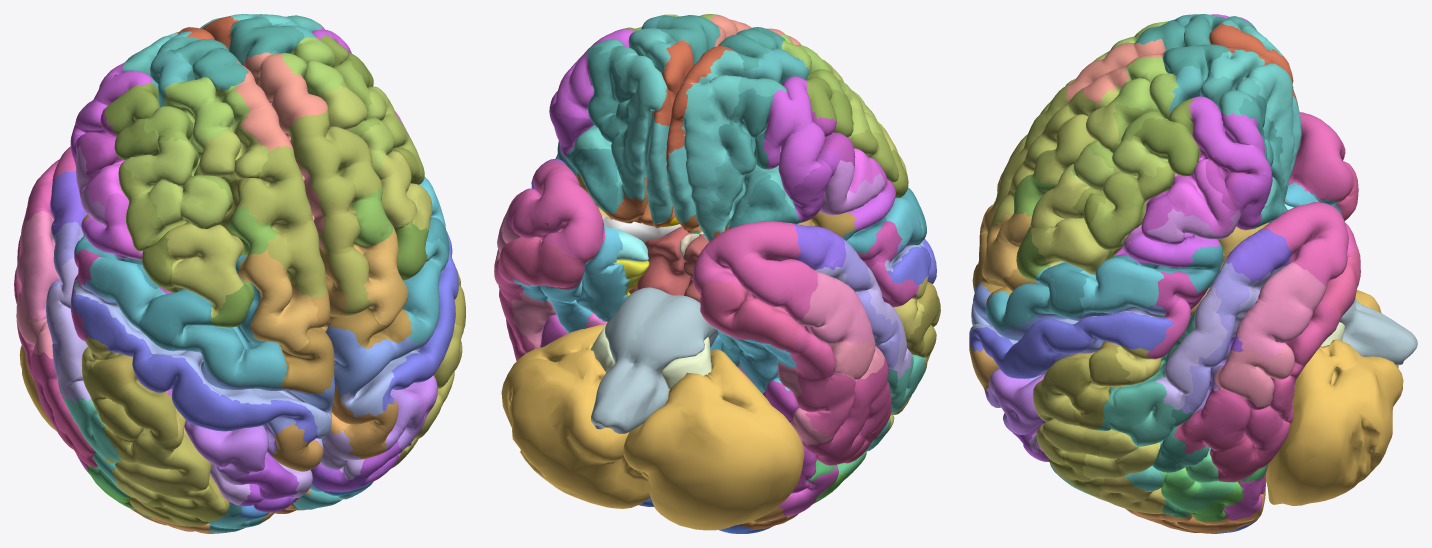
File: brain_glasser.glb
3 views of the same model, side by side, from view 1: azimuth 30°, elevation 25°; view 2: azimuth 150°, elevation 25°; view 3: azimuth 270°, elevation 25° (orthographic).
Visible parts, largest first — view 1: Glasser-Left-1, Glasser-Right-8BL, Glasser-Left-46, Glasser-Left-PFm, Glasser-Left-8Av, Glasser-Left-6ma, Glasser-Left-PF, Glasser-Left-6d, Glasser-Left-8BL, Glasser-Right-SFL, Glasser-Left-9a, Glasser-Right-1 (+76 smaller); view 2: Glasser-Left-Cerebellum-Cortex, Glasser-Right-Cerebellum-Cortex, Glasser-Brain-Stem, Glasser-Left-TGd, Glasser-Right-TGd, Glasser-Left-OFC, Glasser-Left-a47r, Glasser-Left-TGv, Glasser-Left-TE2a, Glasser-Right-OFC, Glasser-Left-TE1a, Glasser-Right-10pp (+59 smaller); view 3: Glasser-Right-Cerebellum-Cortex, Glasser-Right-1, Glasser-Right-TE1a, Glasser-Right-8Av, Glasser-Right-TGd, Glasser-Right-TE1p, Glasser-Right-PF, Glasser-Right-p9-46v, Glasser-Right-a47r, Glasser-Left-TGd, Glasser-Right-8BL, Glasser-Right-PFm (+66 smaller).
Boxes of the visible parts, x1,y1,x2,y2 form: Glasser-Left-1: (71,288,321,443); Glasser-Right-8BL: (287,108,382,204); Glasser-Left-46: (122,137,229,228); Glasser-Left-PFm: (104,428,225,509); Glasser-Left-8Av: (165,221,244,317); Glasser-Left-6ma: (238,250,318,350); Glasser-Left-PF: (82,361,178,451); Glasser-Left-6d: (192,325,286,388); Glasser-Left-8BL: (236,146,311,228); Glasser-Right-SFL: (318,198,371,315); Glasser-Left-9a: (164,77,250,152); Glasser-Right-1: (382,230,458,410); Glasser-Left-Cerebellum-Cortex: (623,349,804,530); Glasser-Right-Cerebellum-Cortex: (501,324,650,508); Glasser-Brain-Stem: (591,287,718,433); Glasser-Left-TGd: (693,221,817,320); Glasser-Right-TGd: (506,160,605,258); Glasser-Left-OFC: (667,115,726,240); Glasser-Left-a47r: (763,76,824,197); Glasser-Left-TGv: (695,280,803,350); Glasser-Left-TE2a: (785,310,855,435); Glasser-Right-OFC: (619,110,672,224); Glasser-Left-TE1a: (796,270,874,346); Glasser-Right-10pp: (613,28,676,118); Glasser-Right-Cerebellum-Cortex: (1265,339,1403,505); Glasser-Right-1: (969,312,1172,378); Glasser-Right-TE1a: (1236,261,1327,359); Glasser-Right-8Av: (1030,171,1109,274); Glasser-Right-TGd: (1261,202,1357,286); Glasser-Right-TE1p: (1186,388,1291,456); Glasser-Right-PF: (1046,348,1153,428); Glasser-Right-p9-46v: (1089,165,1174,249); Glasser-Right-a47r: (1189,96,1271,177); Glasser-Left-TGd: (1288,112,1353,200); Glasser-Right-8BL: (1026,87,1095,184); Glasser-Right-PFm: (1033,373,1120,464).
Size of the model in its own units: 144 by 181 by 154.
